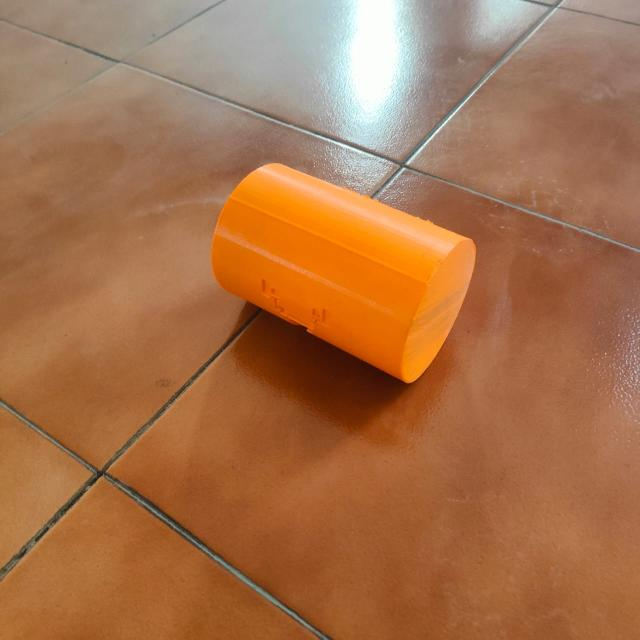Cylinder: (209, 161, 476, 385)
